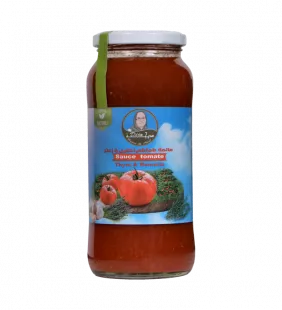DIJA: (76, 20, 204, 284)
